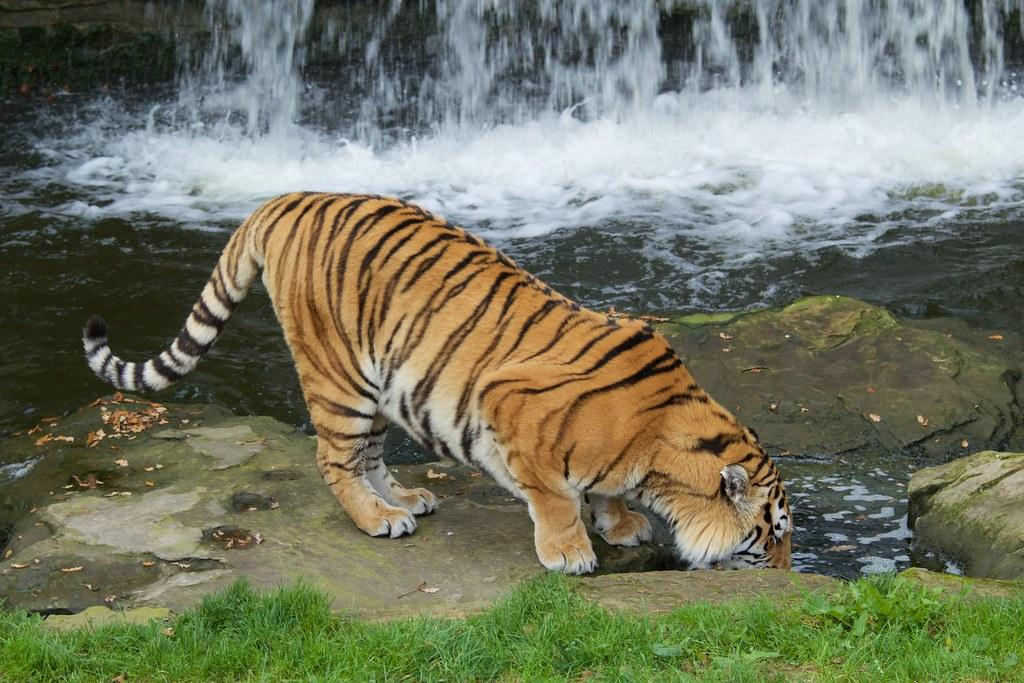tiger: (81, 189, 795, 577)
